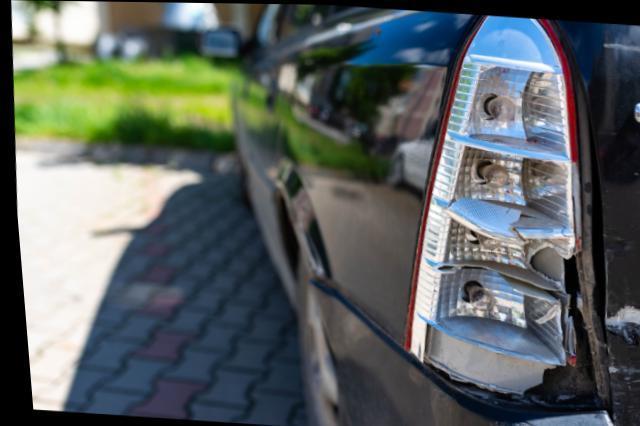lamp broken: (400, 14, 596, 407)
scratch: (599, 302, 640, 426)
